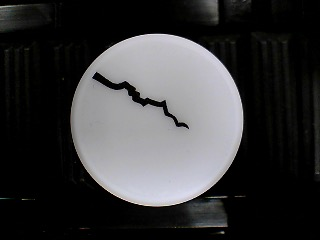CRACK: (69, 34, 244, 207)
